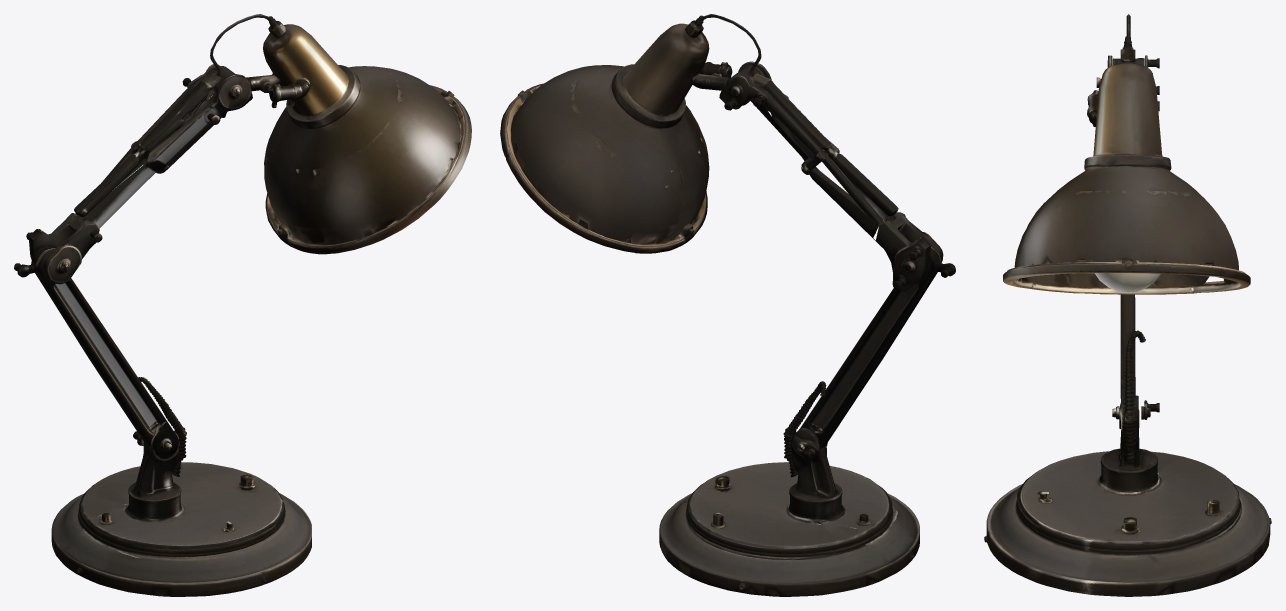
File: atd_desk_lamp.glb
The picture shows the model from 3 angles, left to right: view 1: azimuth 30°, elevation 25°; view 2: azimuth 150°, elevation 25°; view 3: azimuth 270°, elevation 25°; orthographic projection. The views are drawn at different scales.
Parts seen in each view (by area): view 1: e79d3a40_5f6b_4034_9782_8d0e13de2782; view 2: e79d3a40_5f6b_4034_9782_8d0e13de2782; view 3: e79d3a40_5f6b_4034_9782_8d0e13de2782.
Part boxes in pixels (x1,y1,x2,y2): e79d3a40_5f6b_4034_9782_8d0e13de2782: [14, 14, 471, 596]; e79d3a40_5f6b_4034_9782_8d0e13de2782: [500, 14, 955, 596]; e79d3a40_5f6b_4034_9782_8d0e13de2782: [984, 14, 1271, 596].
Size of the model in its own units: 0.8965 by 0.9995 by 0.4702.
Materials: 1 (1 with a texture image).
